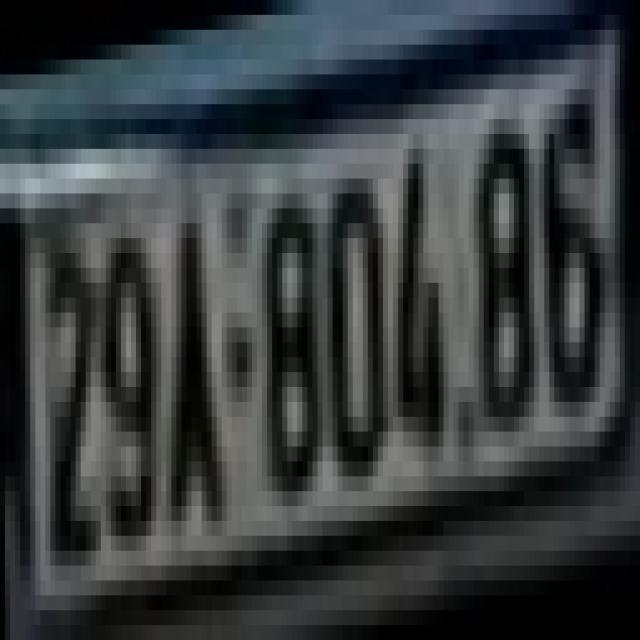0: (328, 164, 388, 476)
2: (45, 238, 101, 566)
4: (393, 148, 449, 462)
6: (544, 89, 600, 402)
8: (262, 178, 323, 492), (478, 119, 534, 432)
9: (100, 223, 156, 551)
A: (166, 193, 232, 536)
